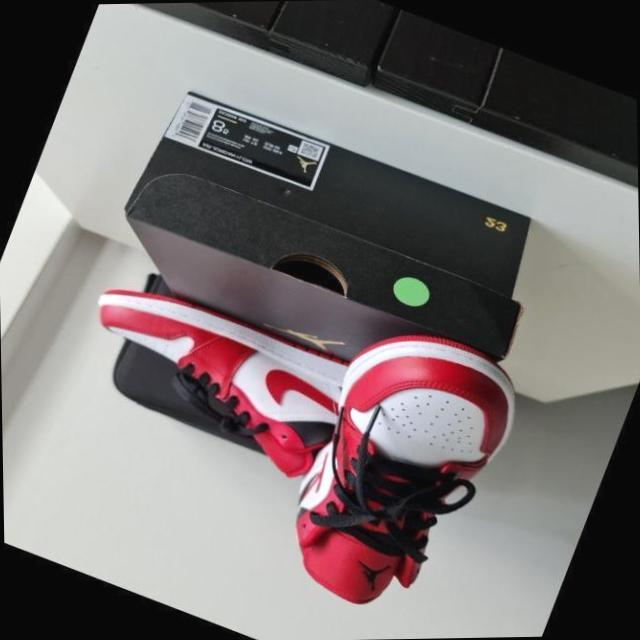nike_original_jordan: (259, 300, 542, 639), (59, 266, 374, 497)
